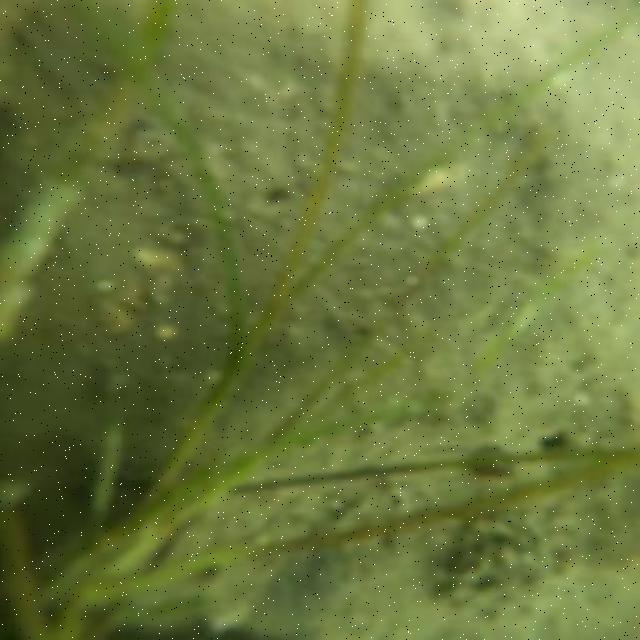Oyster-Closed: (249, 6, 581, 493), (156, 3, 340, 302), (446, 476, 636, 635), (241, 518, 451, 635)
